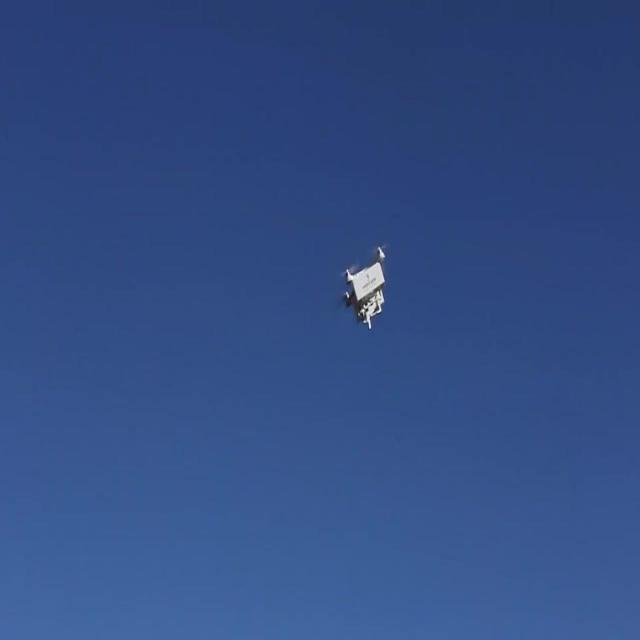UAV: (341, 245, 385, 330)
